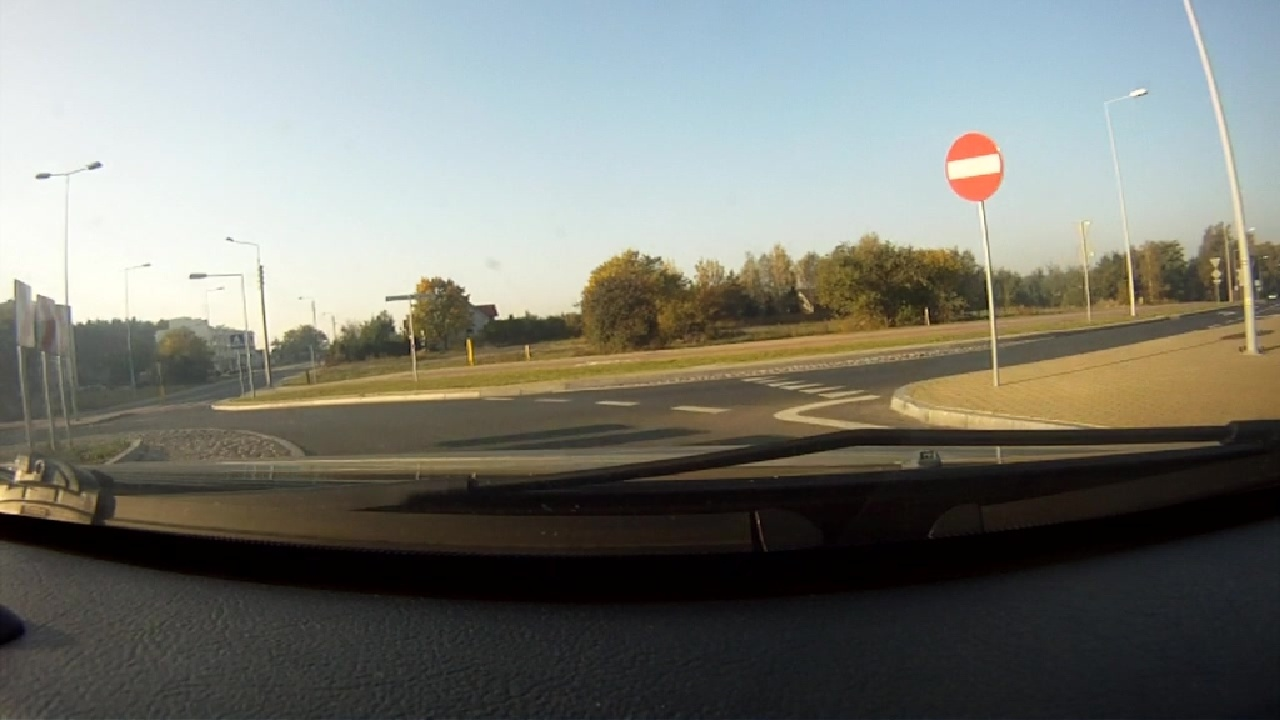B2: (944, 133, 1005, 201)
